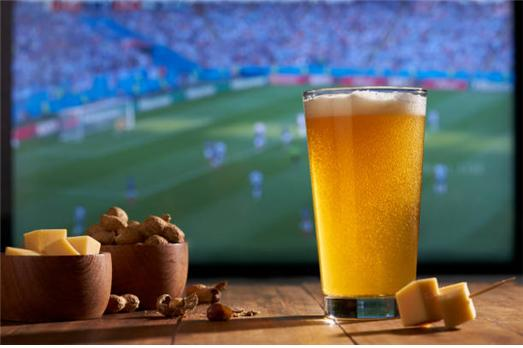alcohol: (302, 85, 428, 320)
